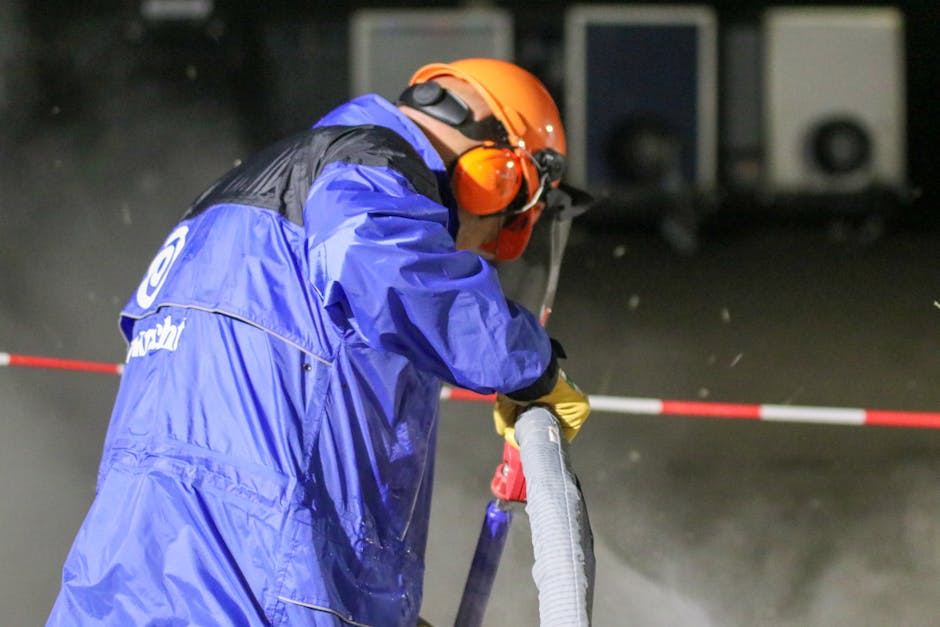safety_helmet: (398, 56, 569, 262)
